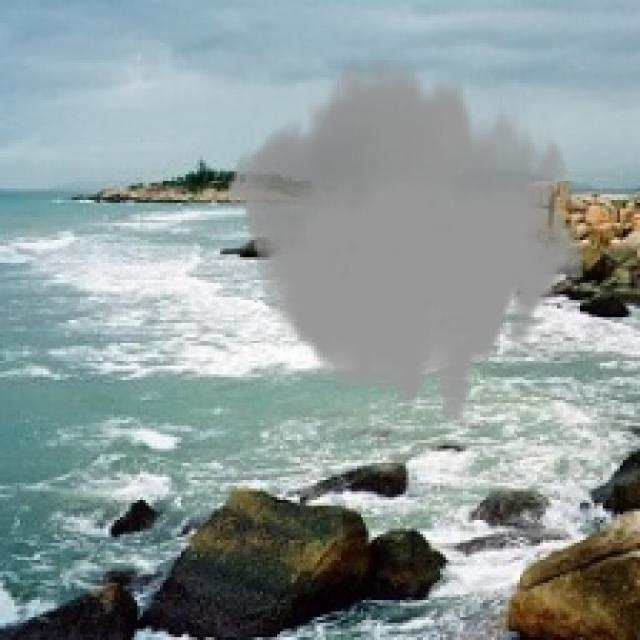Smoke: (225, 60, 586, 420)
